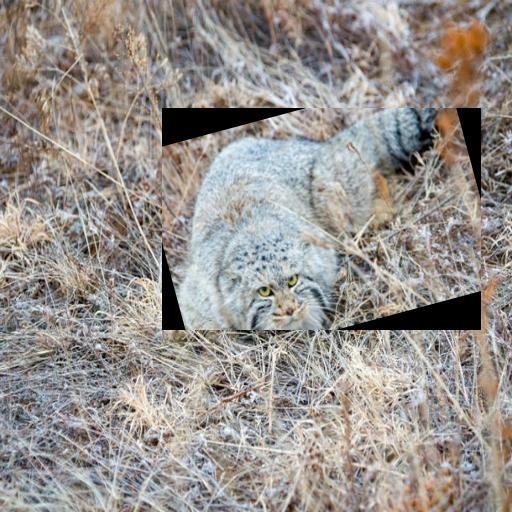manul: (177, 108, 440, 330)
